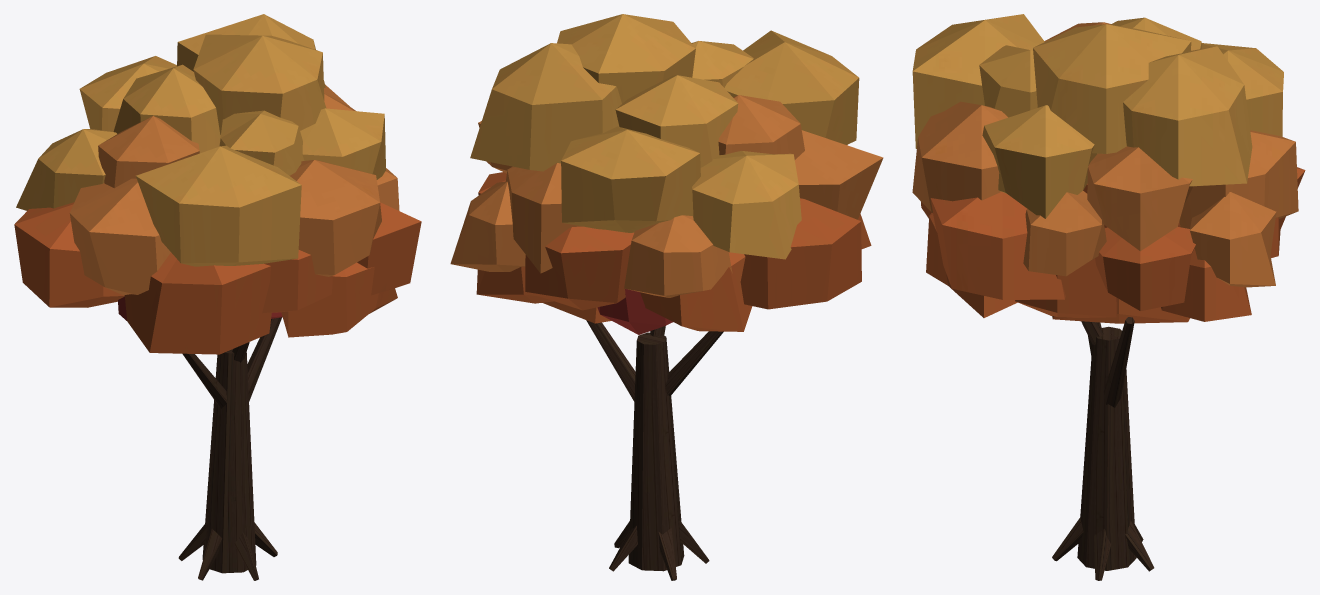
File: tree_broadleaf_01_autumn.glb
3 views of the same model, side by side, from view 1: azimuth 30°, elevation 25°; view 2: azimuth 150°, elevation 25°; view 3: azimuth 270°, elevation 25° (orthographic). The views are drawn at different scales.
Visible parts, largest first — view 1: tree_broadleaf_01_autumn; view 2: tree_broadleaf_01_autumn; view 3: tree_broadleaf_01_autumn.
Part boxes in pixels (<box>): tree_broadleaf_01_autumn: <box>14,14,421,580</box>; tree_broadleaf_01_autumn: <box>450,14,883,580</box>; tree_broadleaf_01_autumn: <box>912,14,1305,580</box>.
Size of the model in its own units: 4.62 by 6.59 by 4.25.
Materials: 5 (5 with a texture image).
